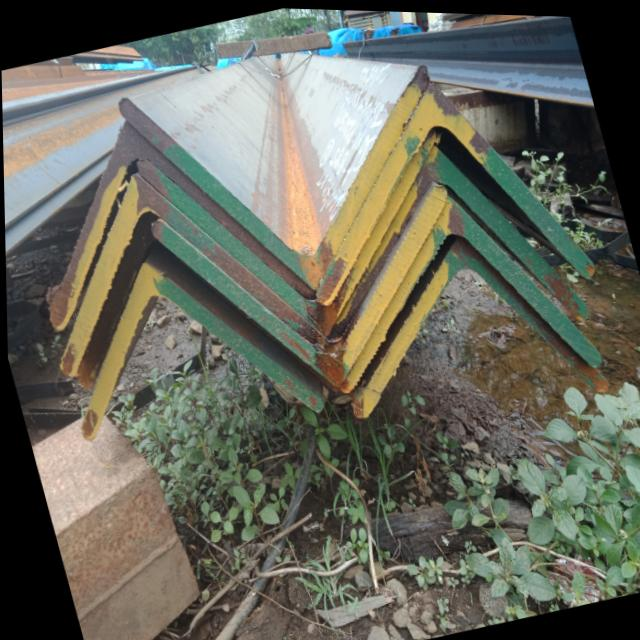metal-angles: (118, 61, 430, 289), (315, 79, 594, 303), (136, 126, 435, 334), (150, 182, 447, 385), (48, 119, 315, 330), (57, 172, 325, 377), (339, 193, 601, 391), (325, 143, 588, 338), (350, 233, 606, 415), (78, 261, 322, 440)
